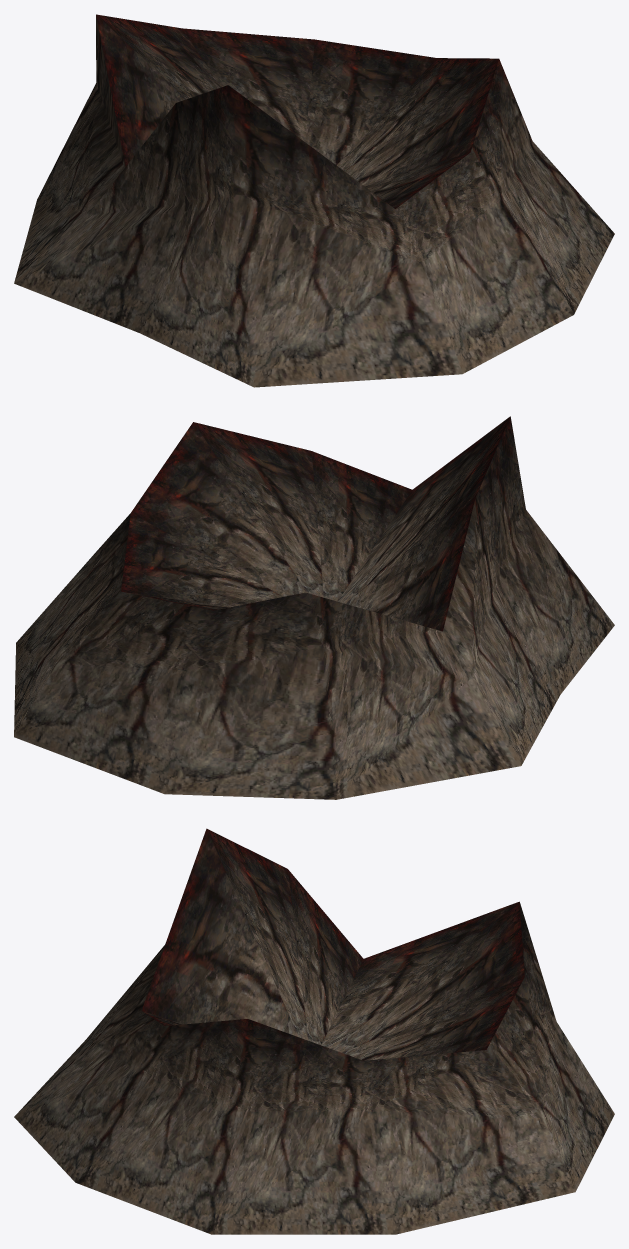
Rendered from burningsteppesboulders06.glb.
3 renders of one model, top to bottom at view 1: azimuth 30°, elevation 25°; view 2: azimuth 150°, elevation 25°; view 3: azimuth 270°, elevation 25°, orthographic. The views are drawn at different scales.
Size of the model in its own units: 8.2 by 3.84 by 9.13.
Materials: 1 (1 with a texture image).
